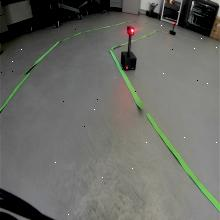red: (126, 24, 136, 36)
